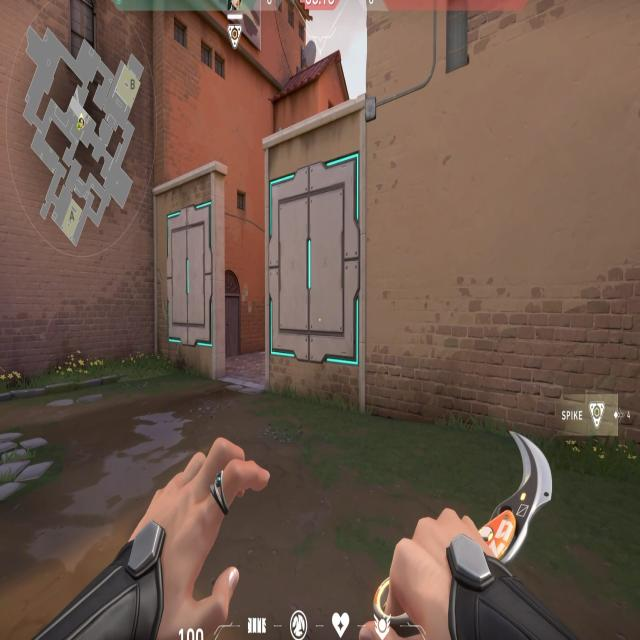Mid_Wall: (271, 153, 363, 368), (164, 202, 218, 350)
